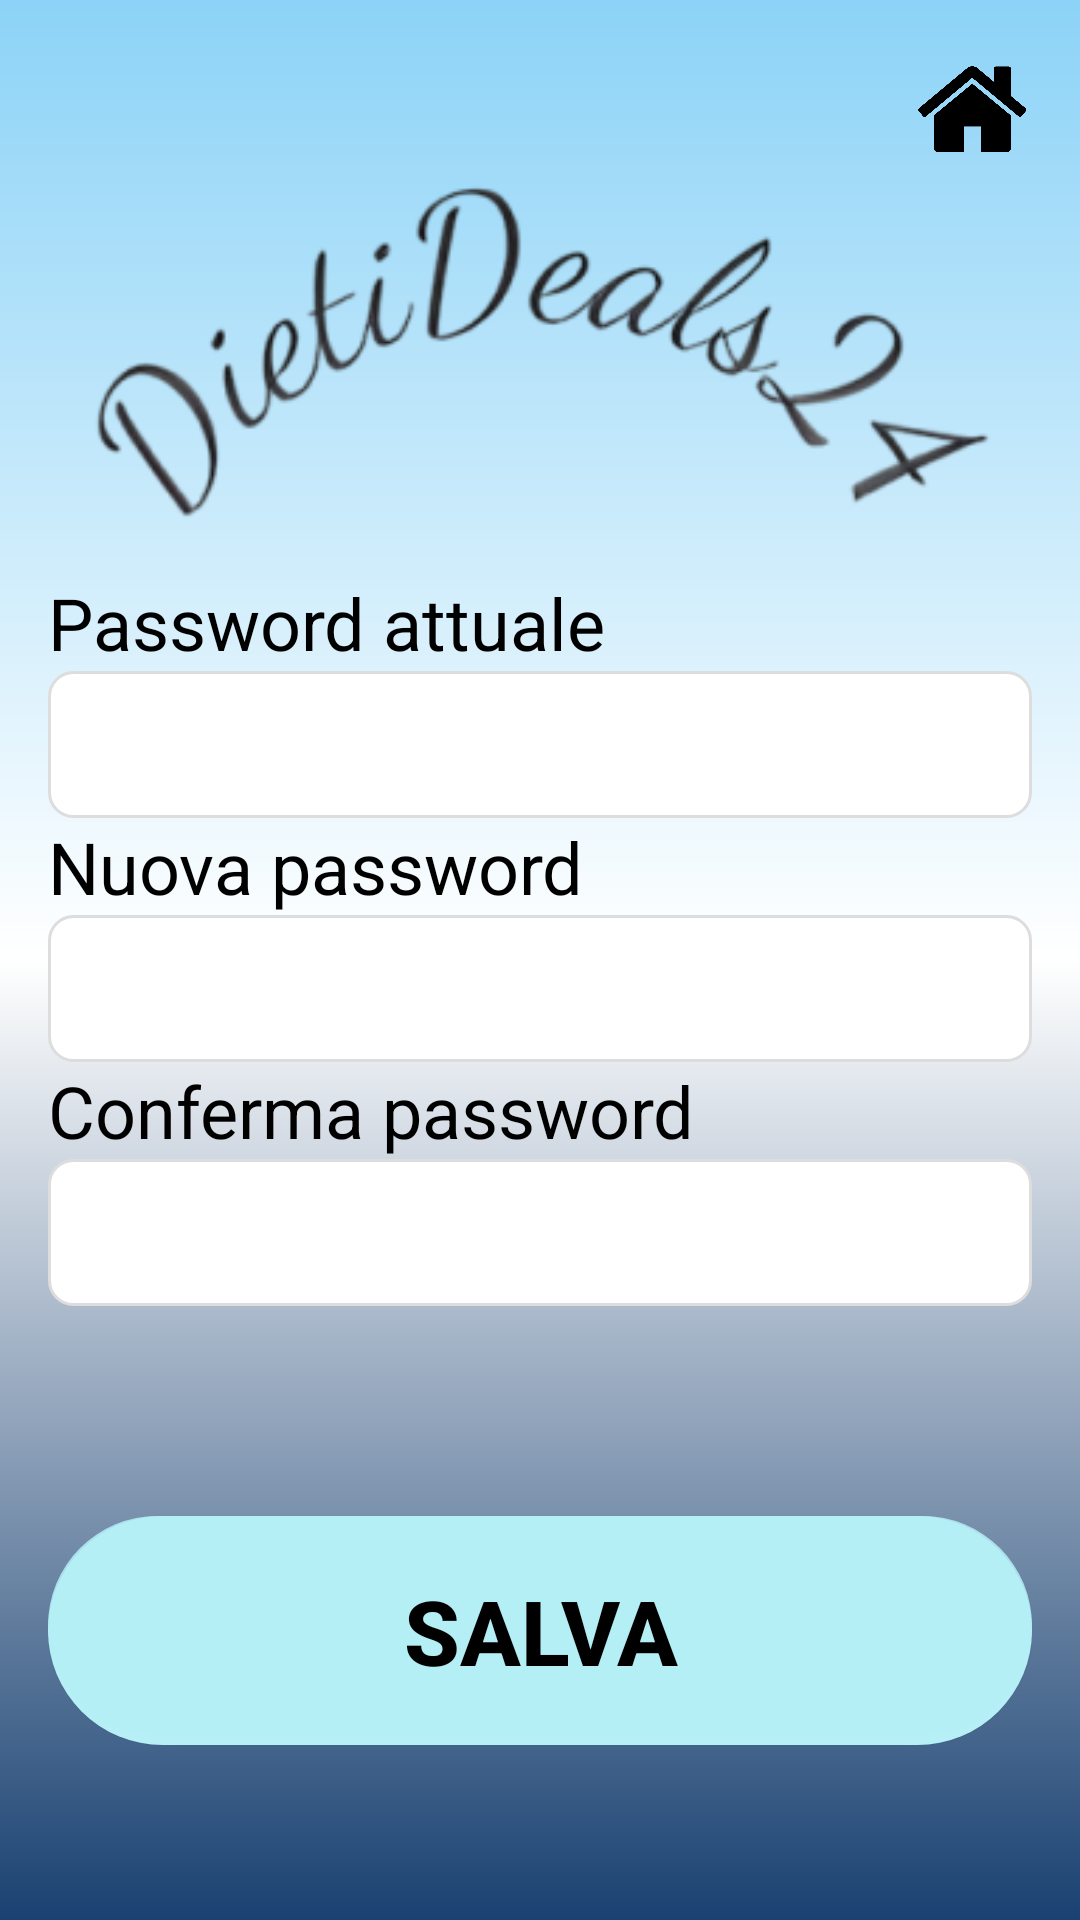

Screen size 1080 x 1920. Icon name, then its center in pixels as [x,y]:
home: [972,109]
